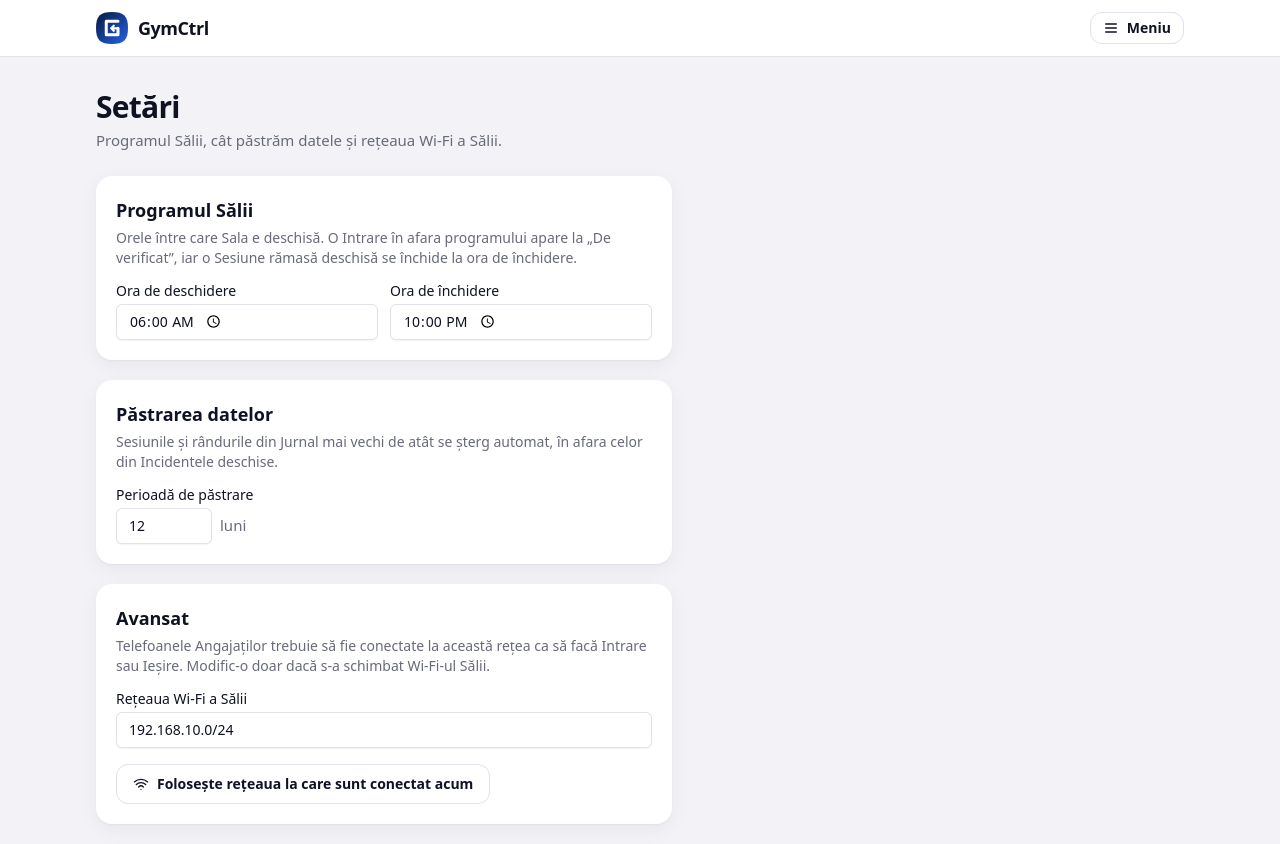
Test: ecranul Setări › sugestia de rețea › arată mesajul pe înțeles când nu există sugestie și lasă câmpul neschimbat
Click the button "Folosește rețeaua la care sunt conectat acum" at (303, 784), box [116,764,490,804]
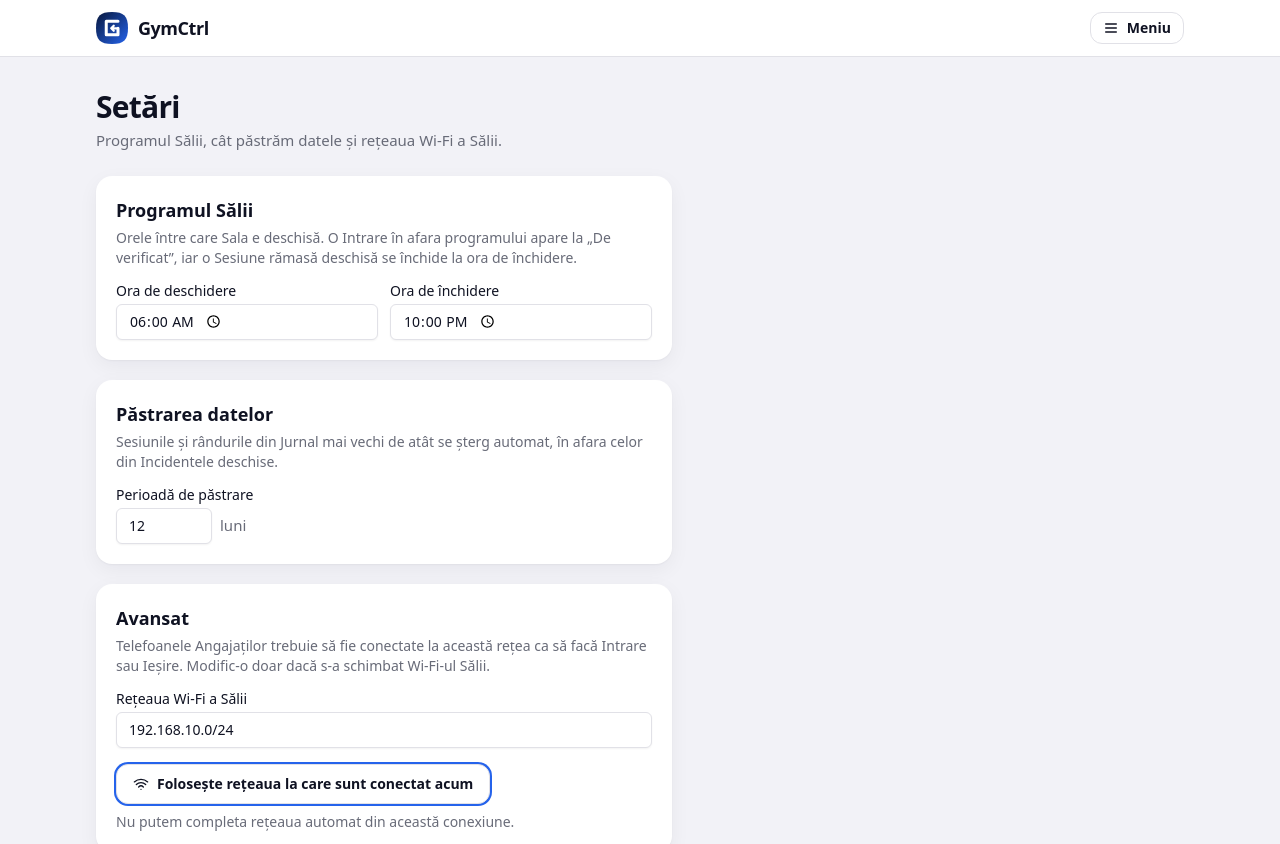
Expected: the field labelled "Rețeaua Wi-Fi a Sălii" holds "192.168.10.0/24", [116,712,652,748]
Now the text "Nu putem completa rețeaua automat din această conexiune." is shown, box [116,812,514,832]
